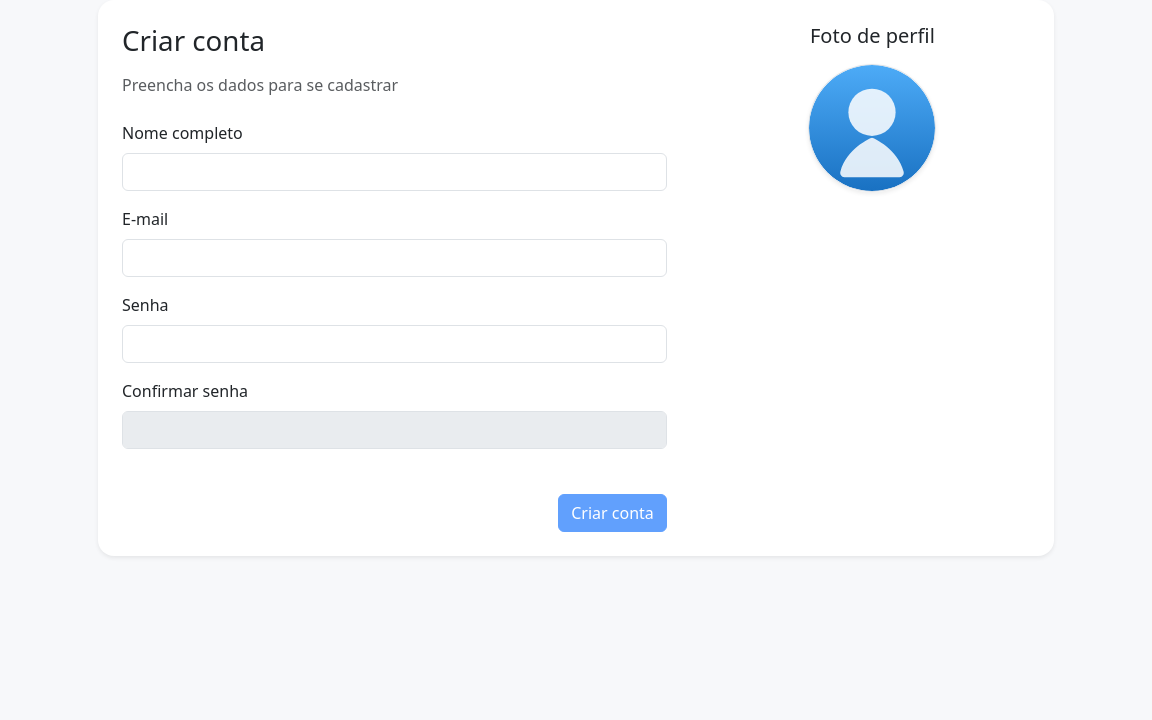
AccountForm › prevents submission when passwords do not match
Step 1. Type "Bob" into the field labelled "Nome completo" → (394, 172), box 122,153 -> 667,191
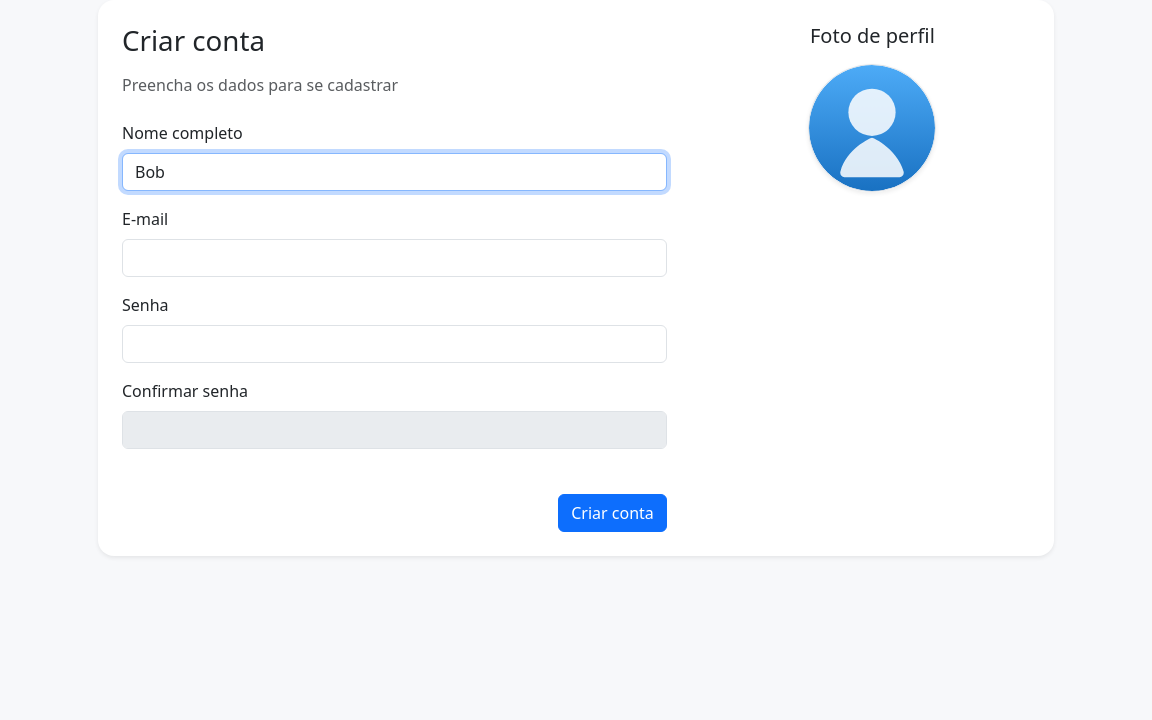
Step 2. Type "bob@example.com" into the field labelled "E-mail" → (394, 258), box 122,239 -> 667,277
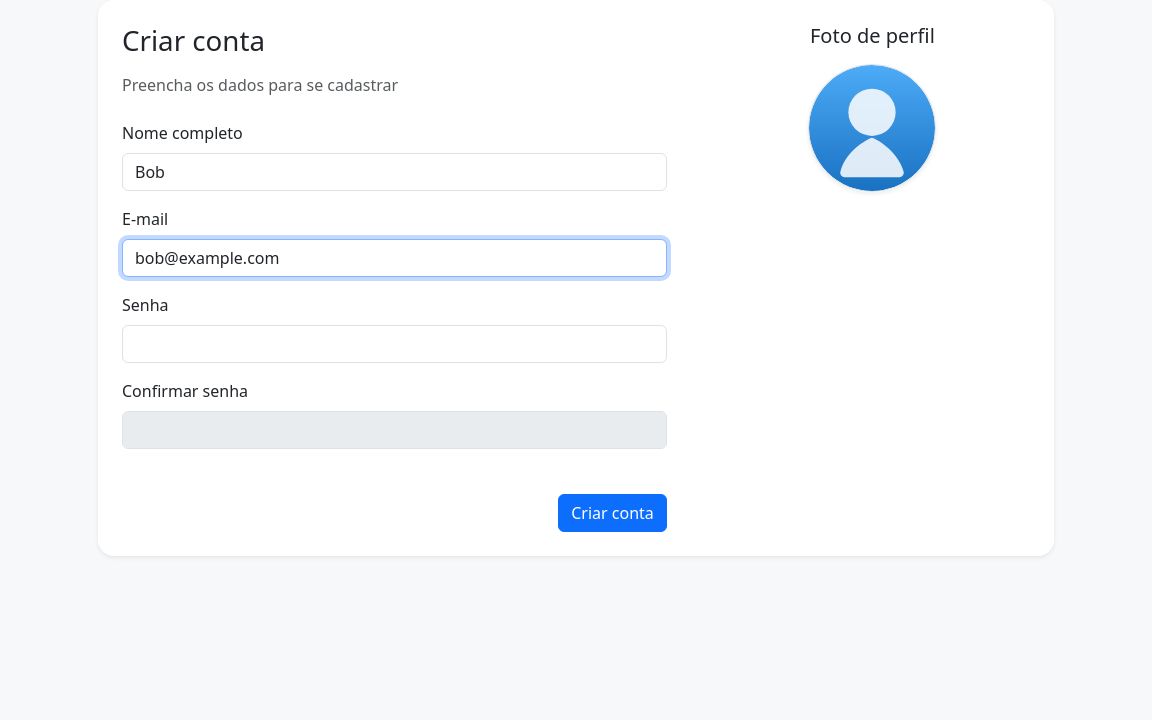
Step 3. Type "password123" into the password field labelled "Senha" → (394, 344), box 122,325 -> 667,363
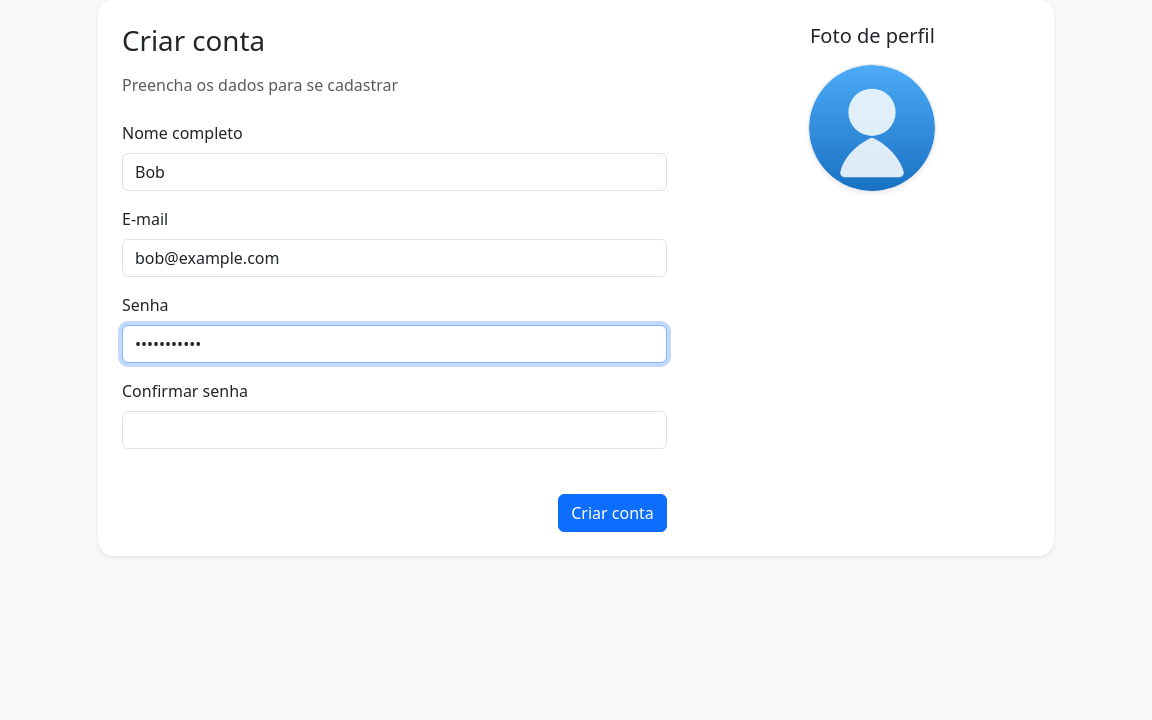
Step 4. Type "different" into the password field labelled "Confirmar senha" → (394, 430), box 122,411 -> 667,449
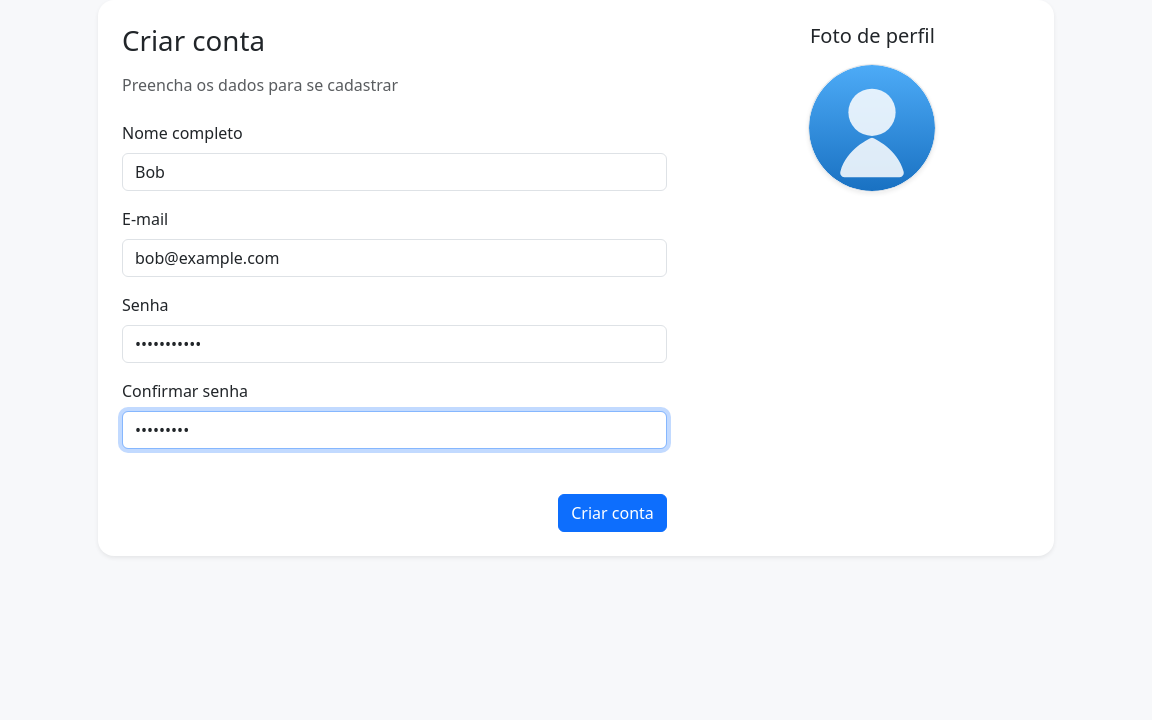
Step 5. Click the button "Criar conta" → (612, 513), box 558,494 -> 667,532
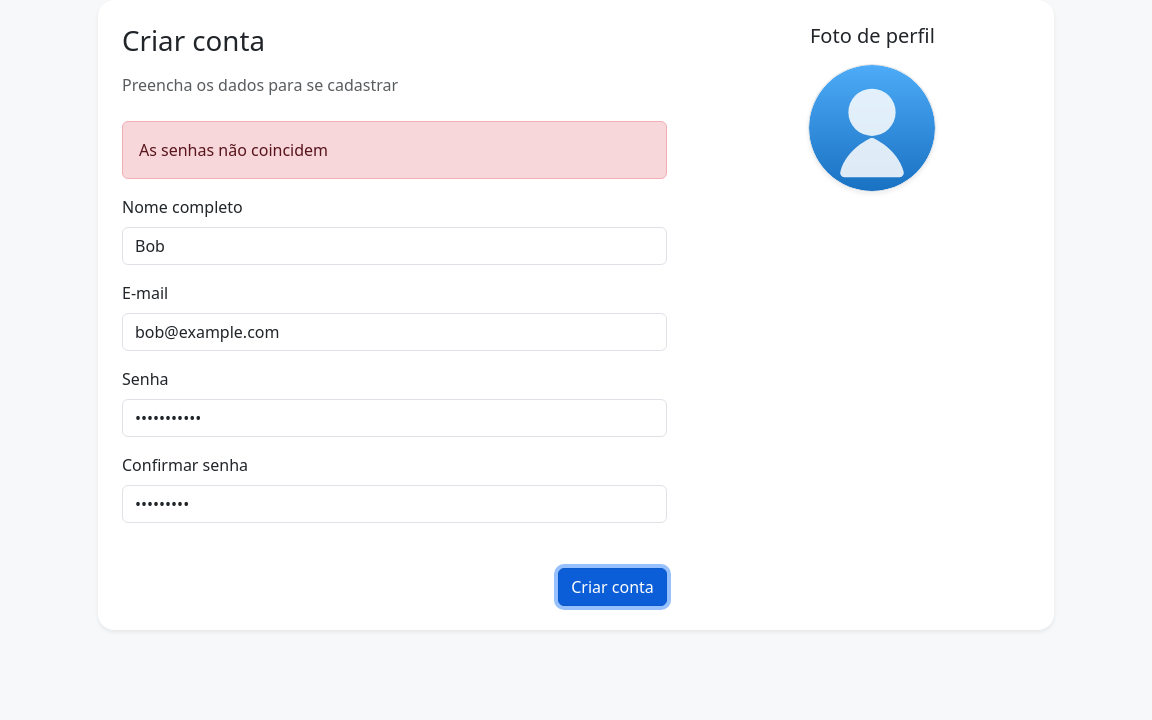
expect the message reads "As senhas não coincidem": met, box 139,139 -> 328,161
